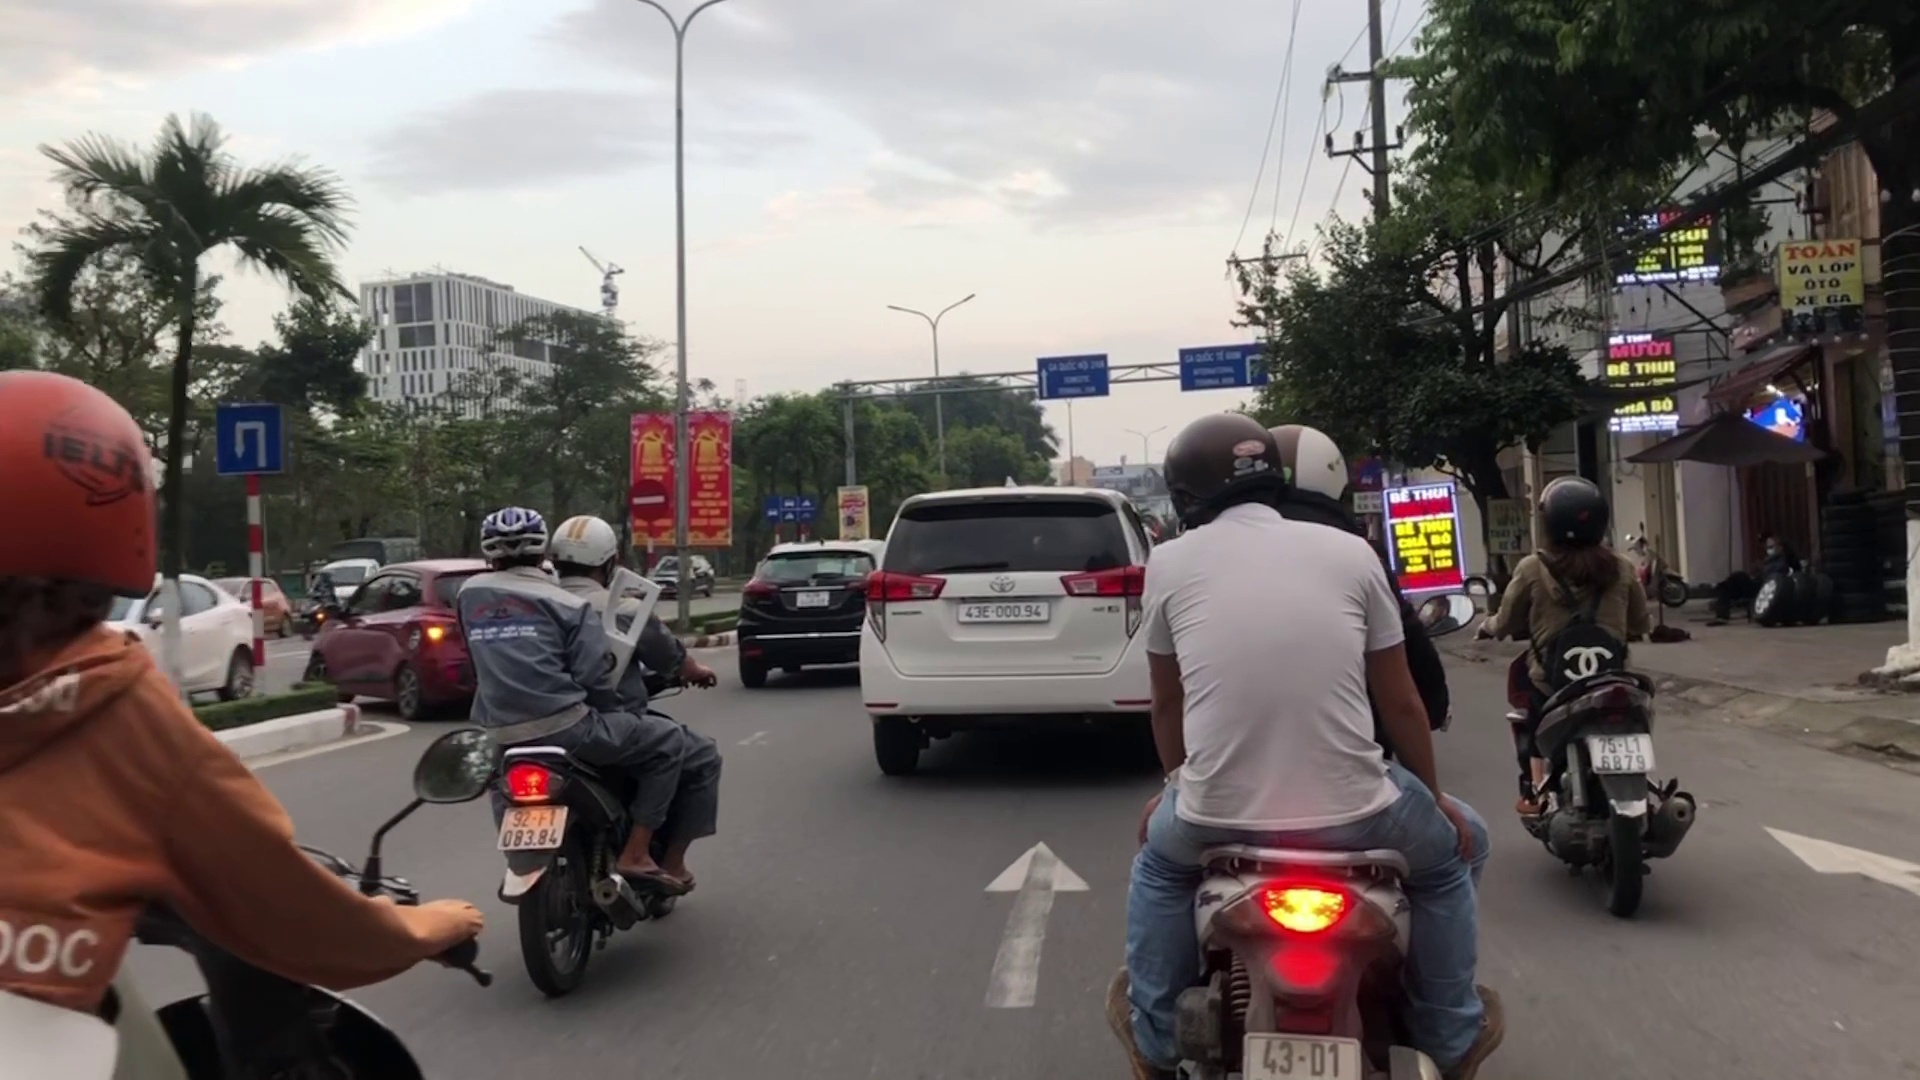Bien khac: (211, 396, 285, 480)
Cam di nguoc chieu: (624, 476, 671, 524)
